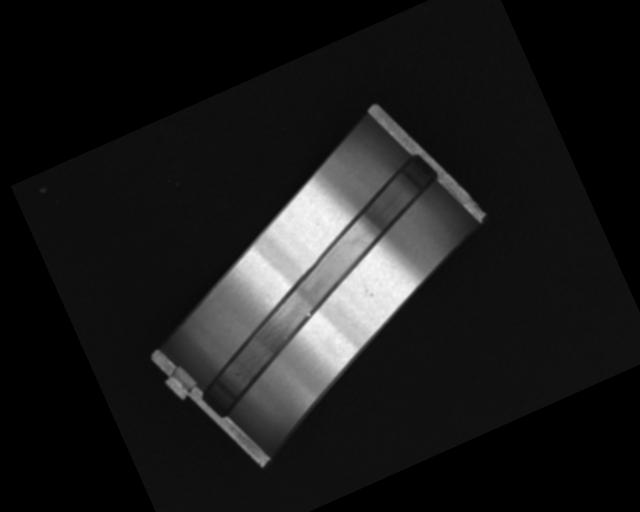gap: (146, 148, 492, 420)
